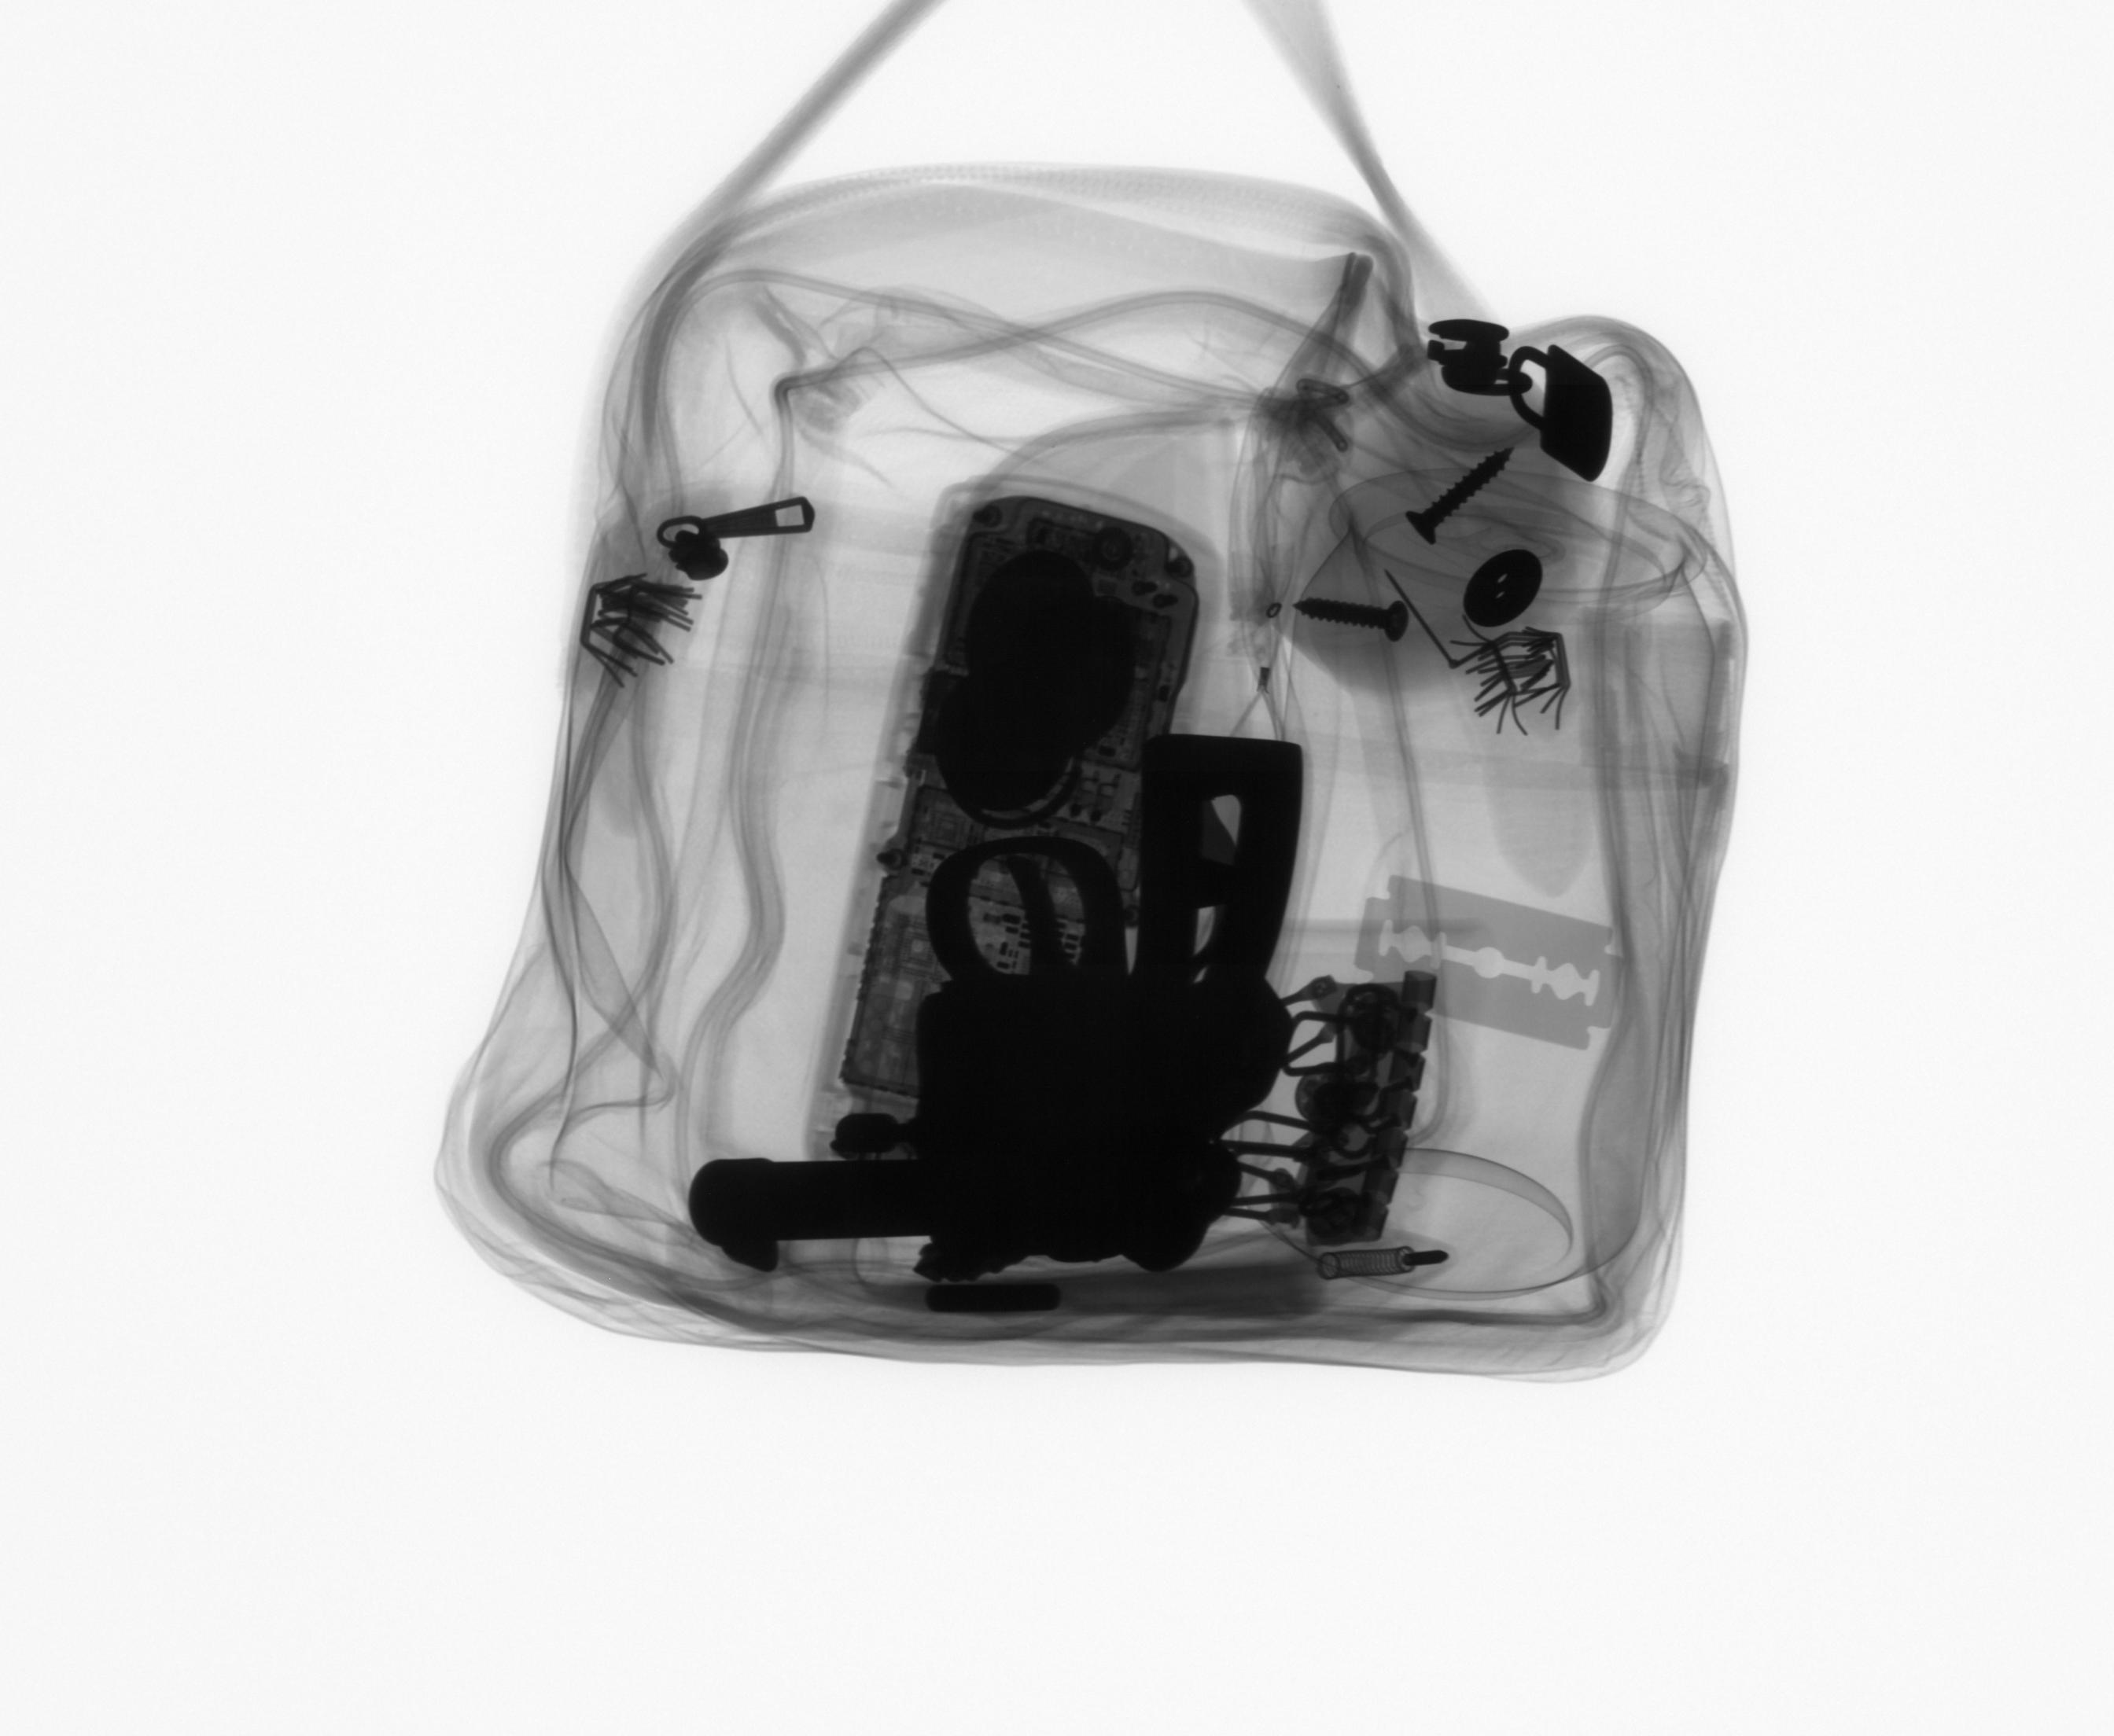Handgun: (681, 725, 1313, 1287)
RazorBlade: (1348, 867, 1638, 1057)
